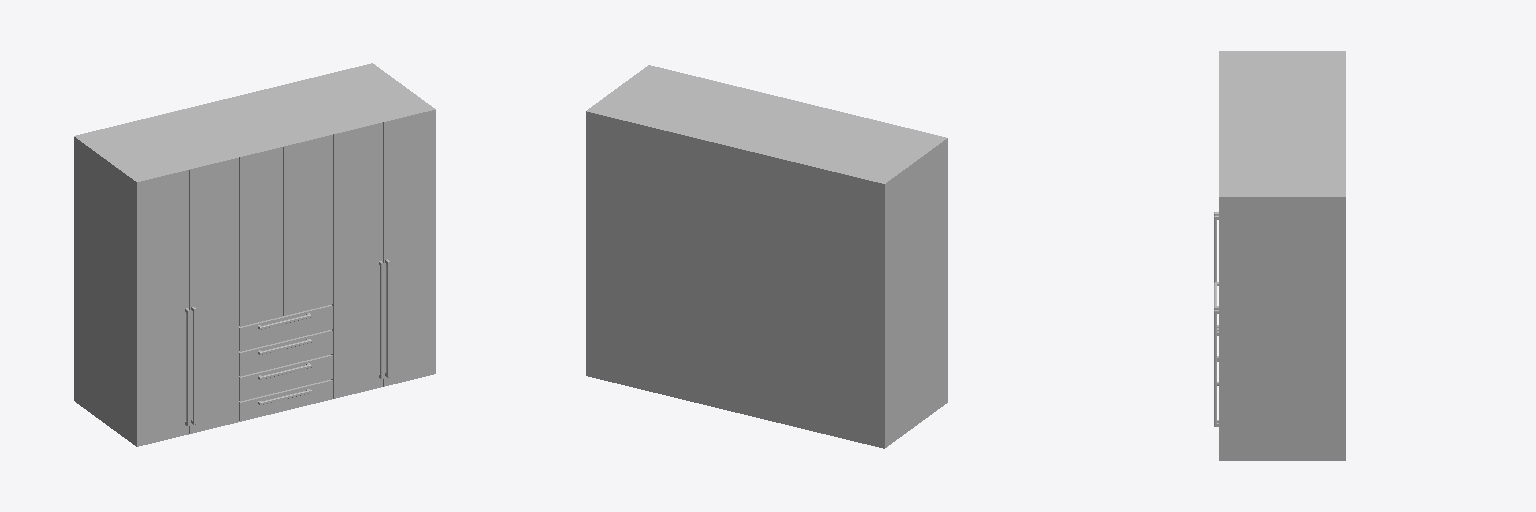
File: Cupboard.obj
3 views of the same model, side by side, from view 1: azimuth 30°, elevation 25°; view 2: azimuth 150°, elevation 25°; view 3: azimuth 270°, elevation 25° (orthographic).
Visible parts, largest first — view 1: Cupboard; view 2: Cupboard; view 3: Cupboard.
Boxes of the visible parts, <box> form: Cupboard: <box>74,63,435,446</box>; Cupboard: <box>586,65,947,448</box>; Cupboard: <box>1214,51,1345,460</box>.
Size of the model in its own units: 17.2 by 14.54 by 6.55.